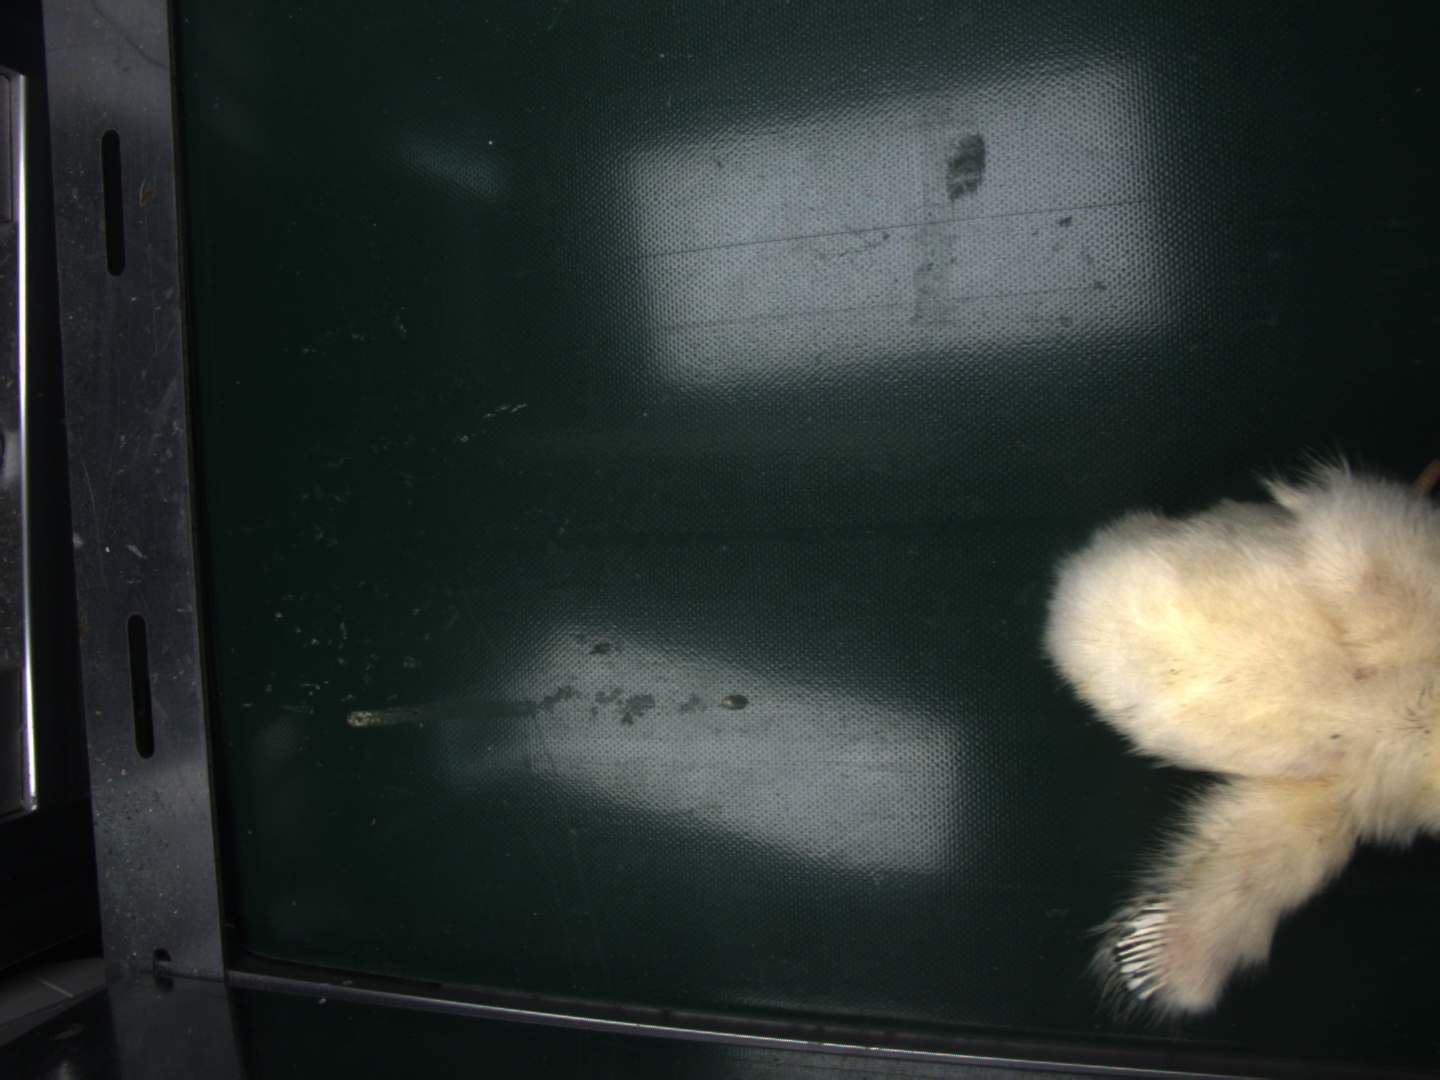male: (1113, 898, 1181, 999)
